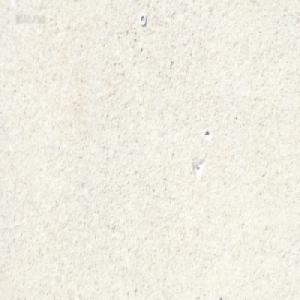Washer: (139, 12, 146, 26)
